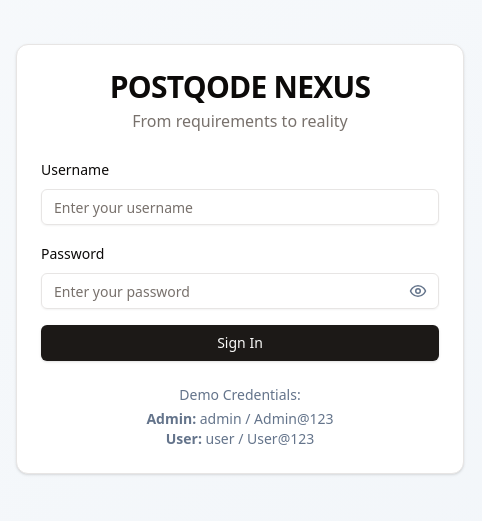
Test: LoginPage › shows validation error for short username
Type "ab" into the field labelled "Username" at (240, 207), box left=41, top=189, right=439, bottom=225
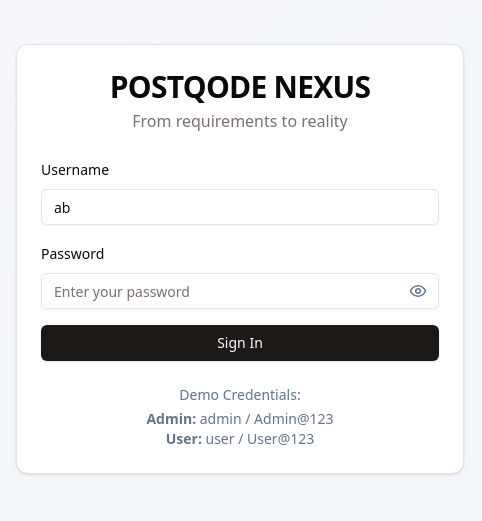
Click the button "Sign In" at (240, 343), box left=41, top=325, right=439, bottom=361
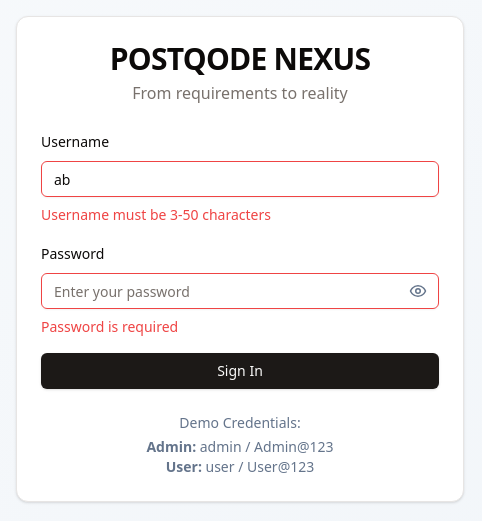
expect the text "Username must be 3-50 characters" is shown: met, box left=41, top=205, right=271, bottom=224
